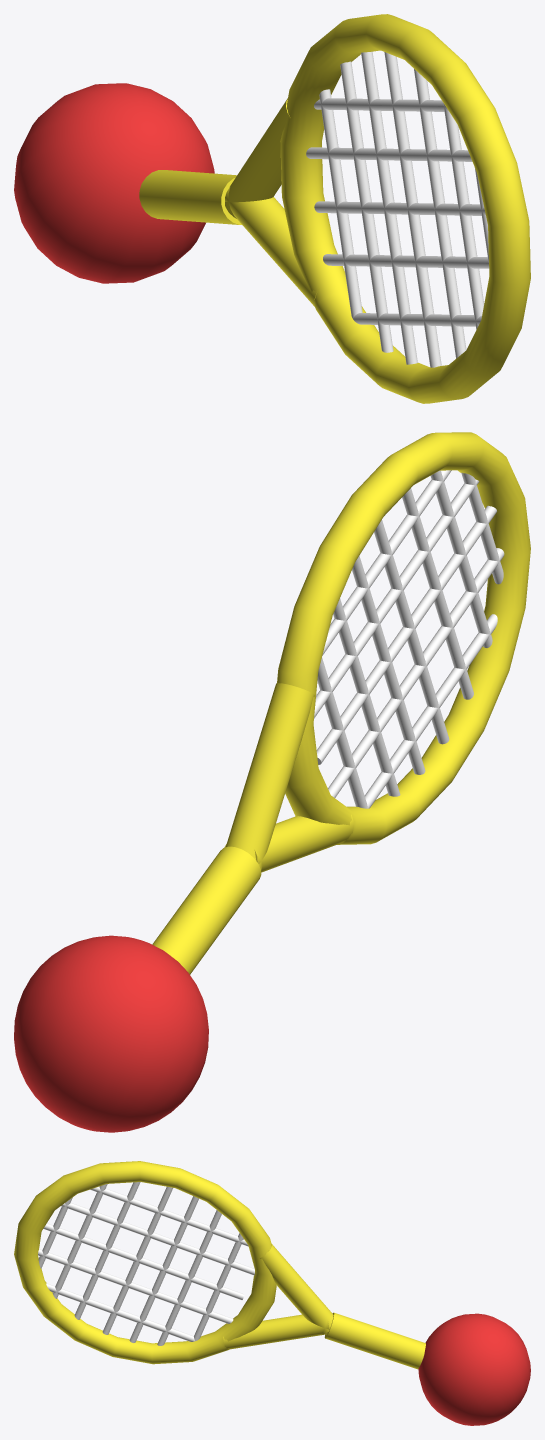
File: Player.obj
3 renders of one model, top to bottom at view 1: azimuth 30°, elevation 25°; view 2: azimuth 150°, elevation 25°; view 3: azimuth 270°, elevation 25°, orthographic. The views are drawn at different scales.
Parts seen in each view (by area): view 1: Player1_racket pTorus1, Player1_racket, Player1_racket pTorus1 pCylinder1, Player1_racket pTorus1 pCylinder4, Player1_racket pTorus1 pCylinder5, Player1_racket pTorus1 pCylinder3, Player1_racket pTorus1 pCylinder6, Player1_racket pTorus1 pCylinder2, Player1_racket pTorus1 pCylinder8, Player1_racket pTorus1 pCylinder7, Player1_racket pTorus1 pCylinder9, Player1_racket pTorus1 pCylinder11 (+4 smaller); view 2: Player1_racket pTorus1, Player1_racket, Player1_racket pTorus1 pCylinder2, Player1_racket pTorus1 pCylinder1, Player1_racket pTorus1 pCylinder11, Player1_racket pTorus1 pCylinder12, Player1_racket pTorus1 pCylinder3, Player1_racket pTorus1 pCylinder14, Player1_racket pTorus1 pCylinder4, Player1_racket pTorus1 pCylinder13, Player1_racket pTorus1 pCylinder5, Player1_racket pTorus1 pCylinder8 (+5 smaller); view 3: Player1_racket pTorus1, Player1_racket, Player1_racket pTorus1 pCylinder1, Player1_racket pTorus1 pCylinder2, Player1_racket pTorus1 pCylinder3, Player1_racket pTorus1 pCylinder11, Player1_racket pTorus1 pCylinder12, Player1_racket pTorus1 pCylinder14, Player1_racket pTorus1 pCylinder4, Player1_racket pTorus1 pCylinder5, Player1_racket pTorus1 pCylinder15, Player1_racket pTorus1 pCylinder13 (+5 smaller).
Boxes of the visible parts, x1=… form: Player1_racket pTorus1: x1=280, y1=14, x2=530, y2=403; Player1_racket: x1=14, y1=83, x2=214, y2=283; Player1_racket pTorus1 pCylinder1: x1=139, y1=170, x2=241, y2=224; Player1_racket pTorus1 pCylinder4: x1=384, y1=52, x2=441, y2=367; Player1_racket pTorus1 pCylinder5: x1=361, y1=51, x2=417, y2=364; Player1_racket pTorus1 pCylinder3: x1=225, y1=186, x2=319, y2=306; Player1_racket pTorus1 pCylinder6: x1=340, y1=61, x2=393, y2=352; Player1_racket pTorus1 pCylinder2: x1=225, y1=98, x2=290, y2=218; Player1_racket pTorus1 pCylinder8: x1=414, y1=69, x2=466, y2=358; Player1_racket pTorus1 pCylinder7: x1=319, y1=89, x2=362, y2=318; Player1_racket pTorus1 pCylinder9: x1=443, y1=103, x2=484, y2=329; Player1_racket pTorus1 pCylinder11: x1=314, y1=201, x2=485, y2=215; Player1_racket pTorus1: x1=277, y1=432, x2=530, y2=844; Player1_racket: x1=14, y1=935, x2=208, y2=1132; Player1_racket pTorus1 pCylinder2: x1=226, y1=683, x2=314, y2=870; Player1_racket pTorus1 pCylinder1: x1=152, y1=846, x2=261, y2=974; Player1_racket pTorus1 pCylinder11: x1=316, y1=505, x2=496, y2=764; Player1_racket pTorus1 pCylinder12: x1=328, y1=548, x2=504, y2=797; Player1_racket pTorus1 pCylinder3: x1=224, y1=814, x2=353, y2=872; Player1_racket pTorus1 pCylinder14: x1=314, y1=479, x2=479, y2=718; Player1_racket pTorus1 pCylinder4: x1=374, y1=520, x2=449, y2=744; Player1_racket pTorus1 pCylinder13: x1=364, y1=614, x2=497, y2=808; Player1_racket pTorus1 pCylinder5: x1=352, y1=556, x2=425, y2=774; Player1_racket pTorus1 pCylinder8: x1=402, y1=488, x2=473, y2=699; Player1_racket pTorus1: x1=14, y1=1161, x2=276, y2=1364; Player1_racket: x1=418, y1=1313, x2=530, y2=1425; Player1_racket pTorus1 pCylinder1: x1=324, y1=1312, x2=425, y2=1369; Player1_racket pTorus1 pCylinder2: x1=260, y1=1244, x2=333, y2=1334; Player1_racket pTorus1 pCylinder3: x1=223, y1=1314, x2=329, y2=1349; Player1_racket pTorus1 pCylinder11: x1=43, y1=1223, x2=244, y2=1299; Player1_racket pTorus1 pCylinder12: x1=38, y1=1249, x2=233, y2=1323; Player1_racket pTorus1 pCylinder14: x1=61, y1=1203, x2=254, y2=1275; Player1_racket pTorus1 pCylinder4: x1=102, y1=1186, x2=172, y2=1334; Player1_racket pTorus1 pCylinder5: x1=129, y1=1196, x2=198, y2=1342; Player1_racket pTorus1 pCylinder15: x1=90, y1=1186, x2=248, y2=1246; Player1_racket pTorus1 pCylinder13: x1=46, y1=1283, x2=194, y2=1341.
Bounding box in the file's own units: 0.6035 × 1.54 × 2.77.
3 materials, 3 textured.
